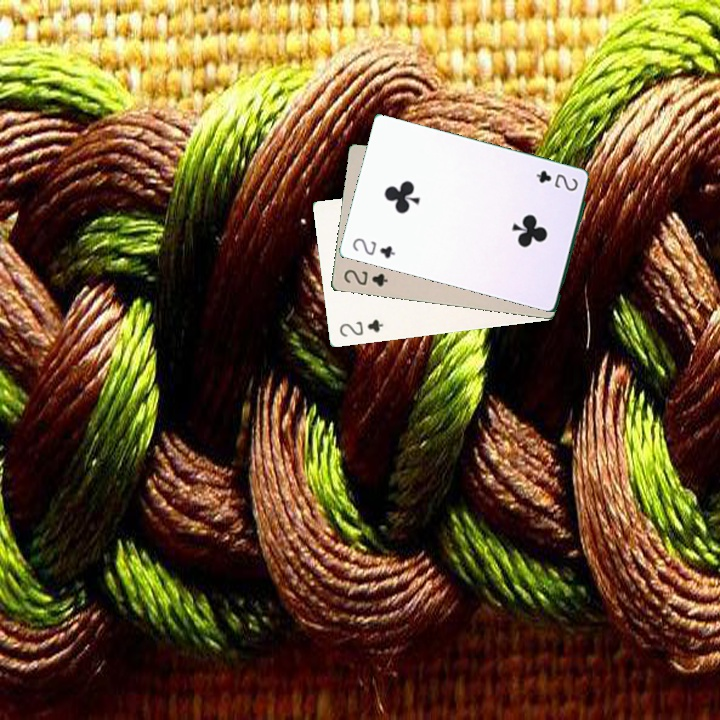2c: (348, 234, 398, 261), (532, 166, 580, 194), (336, 315, 386, 339), (340, 265, 390, 289)
